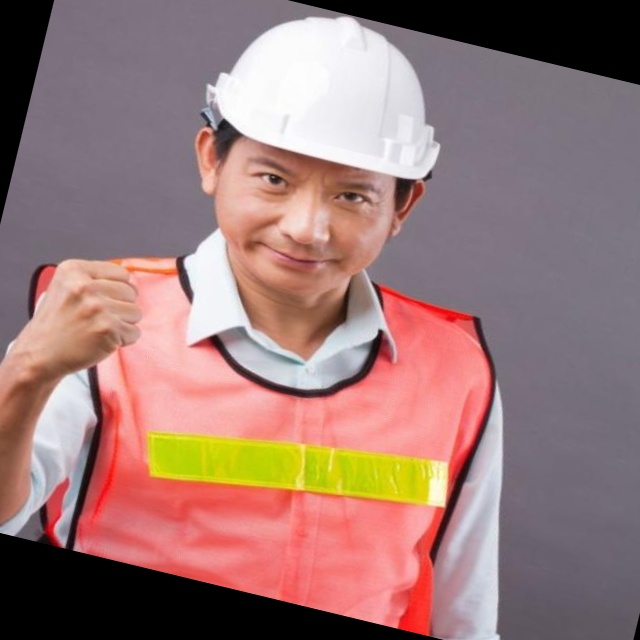Con_Casco: (158, 0, 467, 317)
Con_Chaleco: (0, 208, 507, 637)
